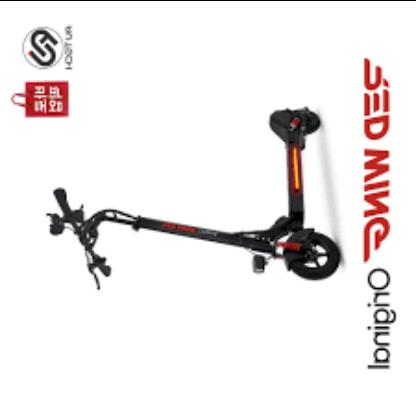bike: (45, 108, 341, 285)
